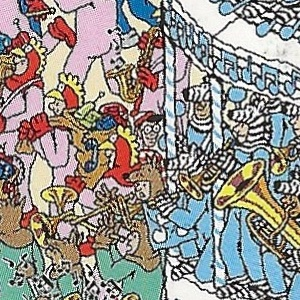Charlie: (132, 108, 168, 192)
